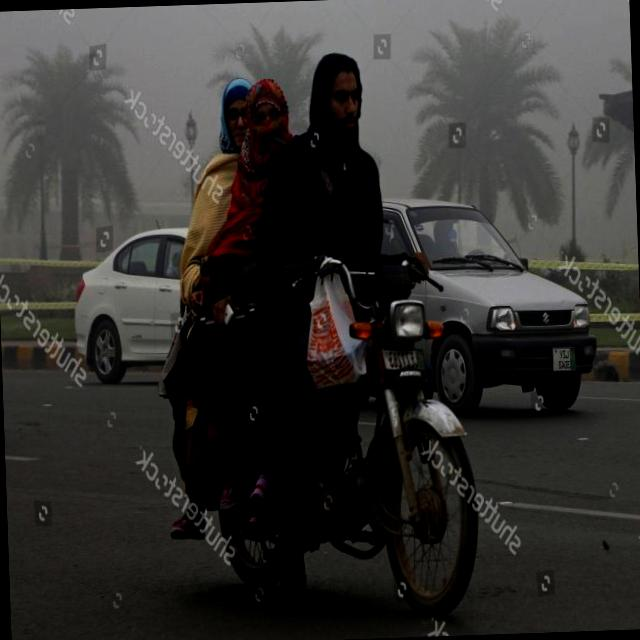motorcycle: (164, 239, 495, 629)
person: (286, 47, 408, 482), (203, 64, 278, 370), (236, 74, 306, 396)
rider_region: (166, 48, 485, 636)
